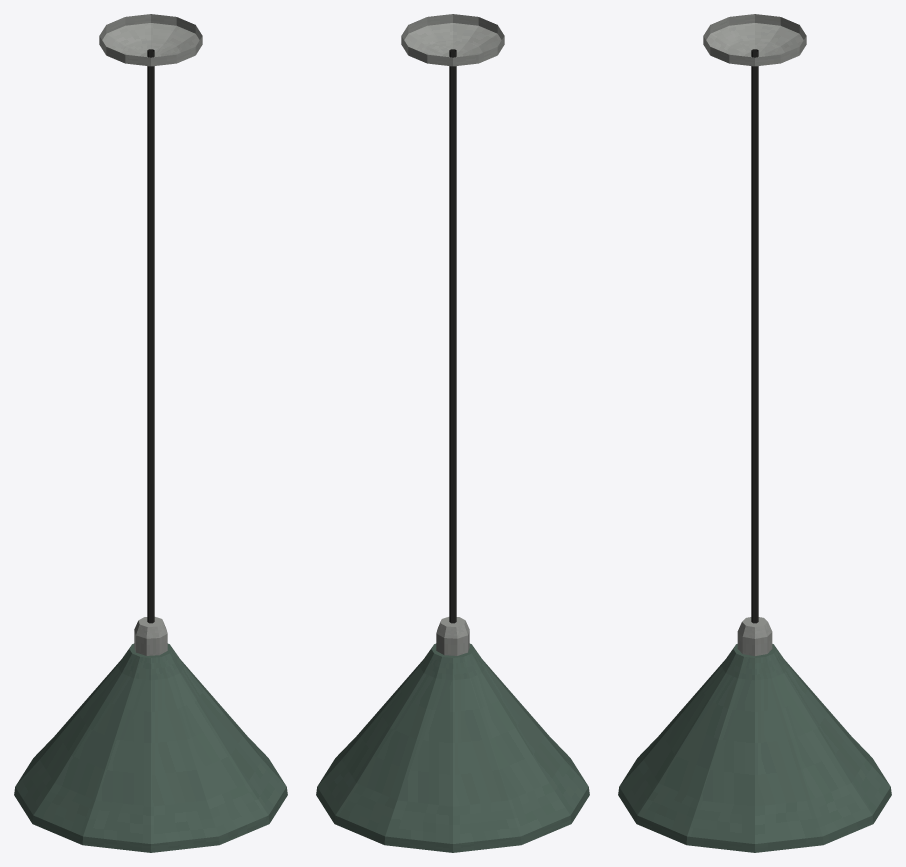
File: pendant_lamp.glb
3 views of the same model, side by side, from view 1: azimuth 30°, elevation 25°; view 2: azimuth 150°, elevation 25°; view 3: azimuth 270°, elevation 25° (orthographic).
Parts seen in each view (by area): view 1: shade_outer, lamp_cord, ceiling_rose, lamp_socket; view 2: shade_outer, lamp_cord, ceiling_rose, lamp_socket; view 3: shade_outer, lamp_cord, ceiling_rose, lamp_socket.
Boxes of the visible parts, box(x1,y1,x2,y2) form: shade_outer: box(14, 643, 287, 852); lamp_cord: box(147, 49, 154, 623); ceiling_rose: box(99, 14, 202, 66); lamp_socket: box(134, 617, 167, 655); shade_outer: box(316, 643, 589, 852); lamp_cord: box(449, 49, 456, 623); ceiling_rose: box(401, 14, 504, 66); lamp_socket: box(436, 617, 469, 655); shade_outer: box(618, 644, 891, 852); lamp_cord: box(751, 49, 758, 623); ceiling_rose: box(703, 14, 806, 66); lamp_socket: box(737, 617, 772, 655).
Size of the model in its own units: 0.315 by 0.9638 by 0.315.
1 material, 1 textured.
